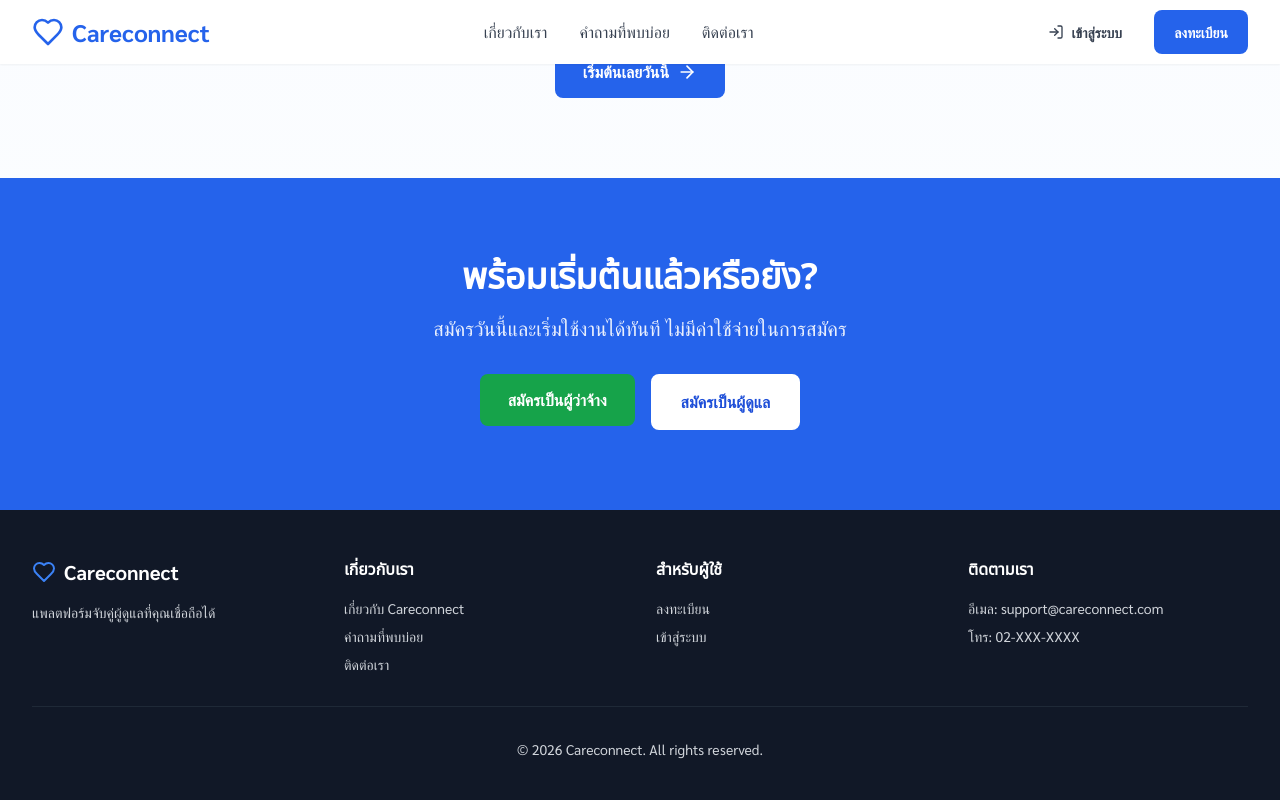
Scenario: Landing page navigation › navigates via footer CTA buttons
(page scrolled)
Step 1. Click the button "สมัครเป็นผู้ว่าจ้าง" → (557, 400), box [480,374,635,426]
(page scrolled)
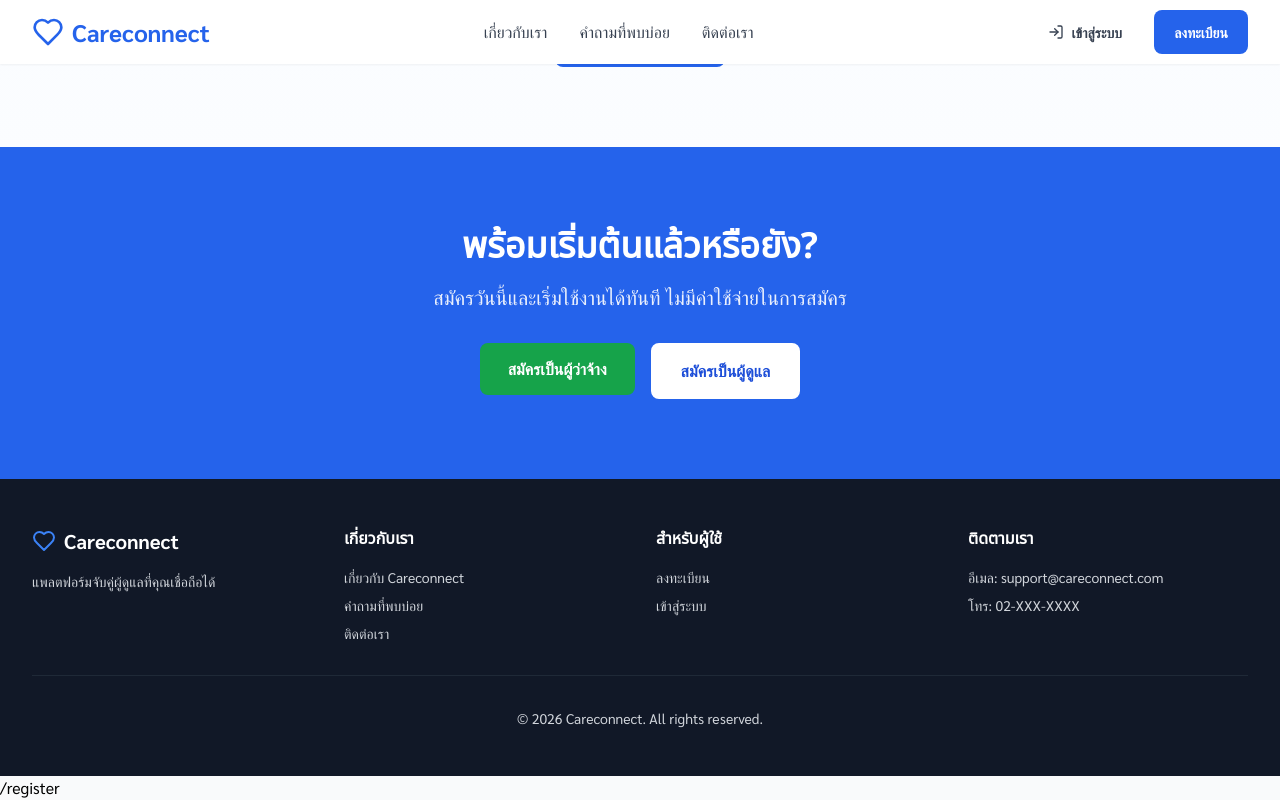
expect the text with test id "location" reads "/register": met, box [0,777,60,798]
